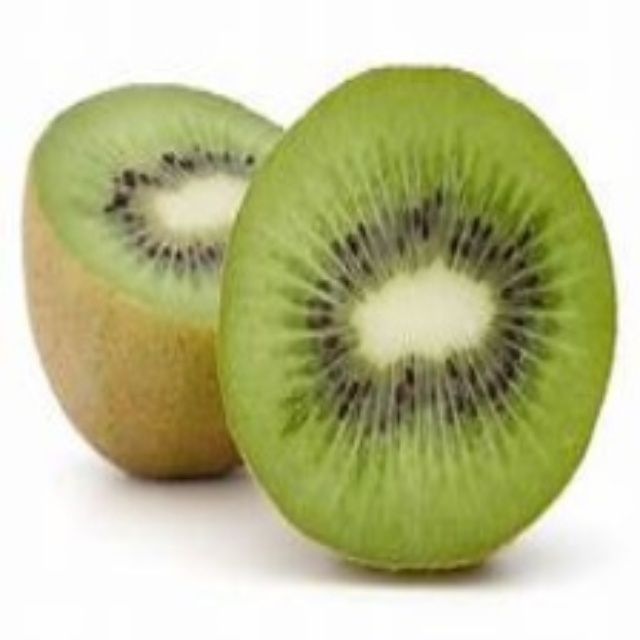kiwi: (226, 61, 623, 564), (20, 83, 293, 483)
